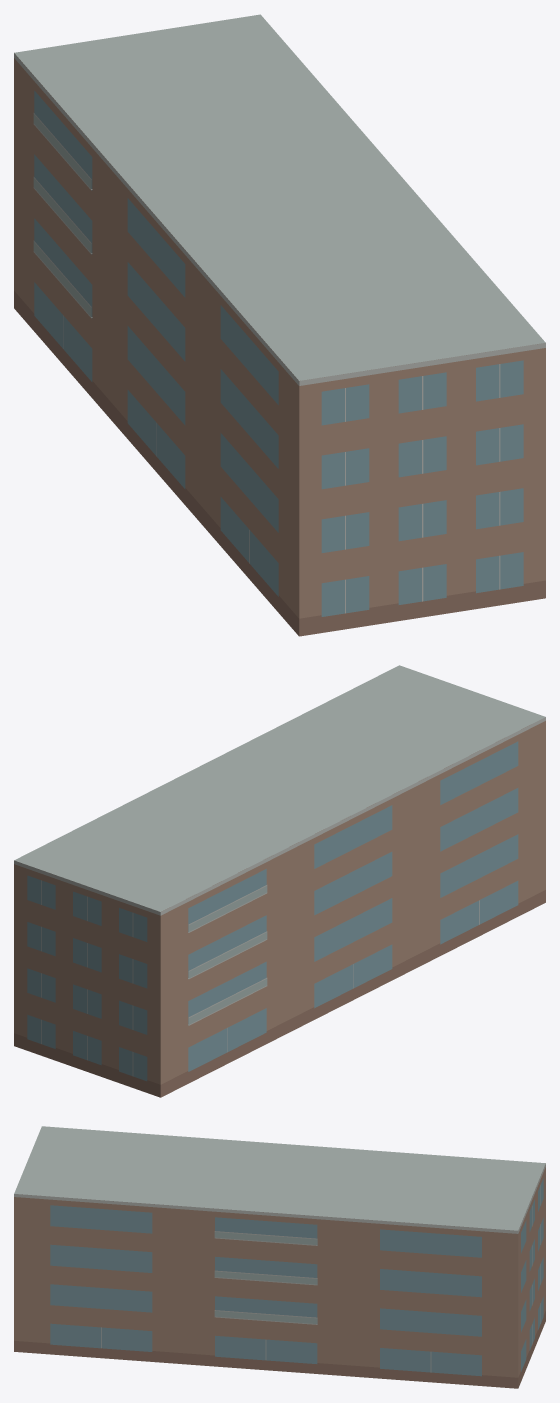
Rendered from residential-29744fd5-4279-41de-9802-9a341bc17a8a.glb.
3 views of the same model, one above another, from view 1: azimuth 30°, elevation 25°; view 2: azimuth 150°, elevation 25°; view 3: azimuth 270°, elevation 25° (orthographic). The views are drawn at different scales.
Visible parts, largest first — view 1: residential-29744fd5-4279-41de-9802-9a341bc17a8a.tmp; view 2: residential-29744fd5-4279-41de-9802-9a341bc17a8a.tmp; view 3: residential-29744fd5-4279-41de-9802-9a341bc17a8a.tmp.
Part boxes in pixels (x1,y1,x2,y2): residential-29744fd5-4279-41de-9802-9a341bc17a8a.tmp: (14,14,545,636); residential-29744fd5-4279-41de-9802-9a341bc17a8a.tmp: (14,665,545,1097); residential-29744fd5-4279-41de-9802-9a341bc17a8a.tmp: (14,1126,545,1388).
Bounding box in the file's own units: 17.33 × 12.2 × 37.24.
